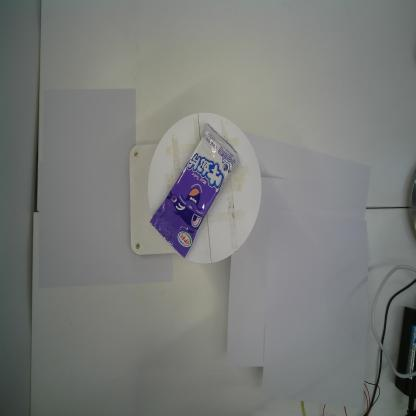Candy: (149, 122, 239, 260)
